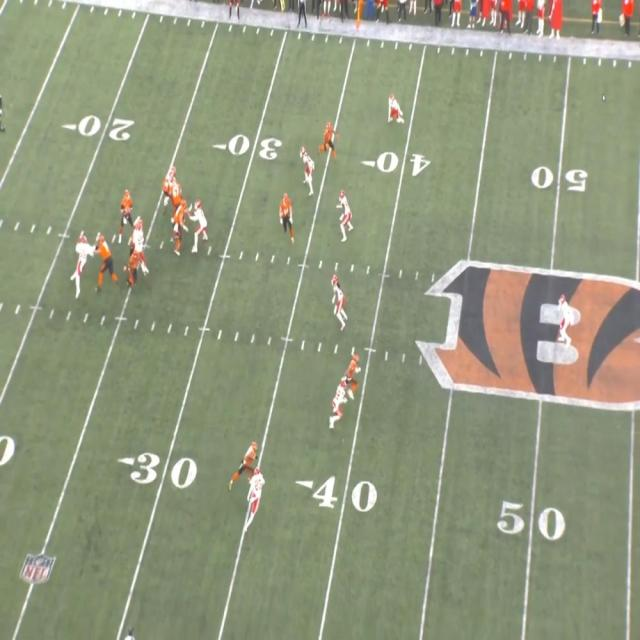db: (329, 381, 347, 431), (247, 472, 265, 519), (300, 150, 316, 192), (559, 294, 569, 342), (388, 96, 402, 124)
lb: (338, 191, 354, 238), (332, 279, 346, 323)
qb: (120, 192, 132, 230)
skill: (234, 444, 260, 482), (277, 194, 293, 233), (347, 356, 360, 401), (323, 121, 337, 157), (130, 249, 140, 287)
